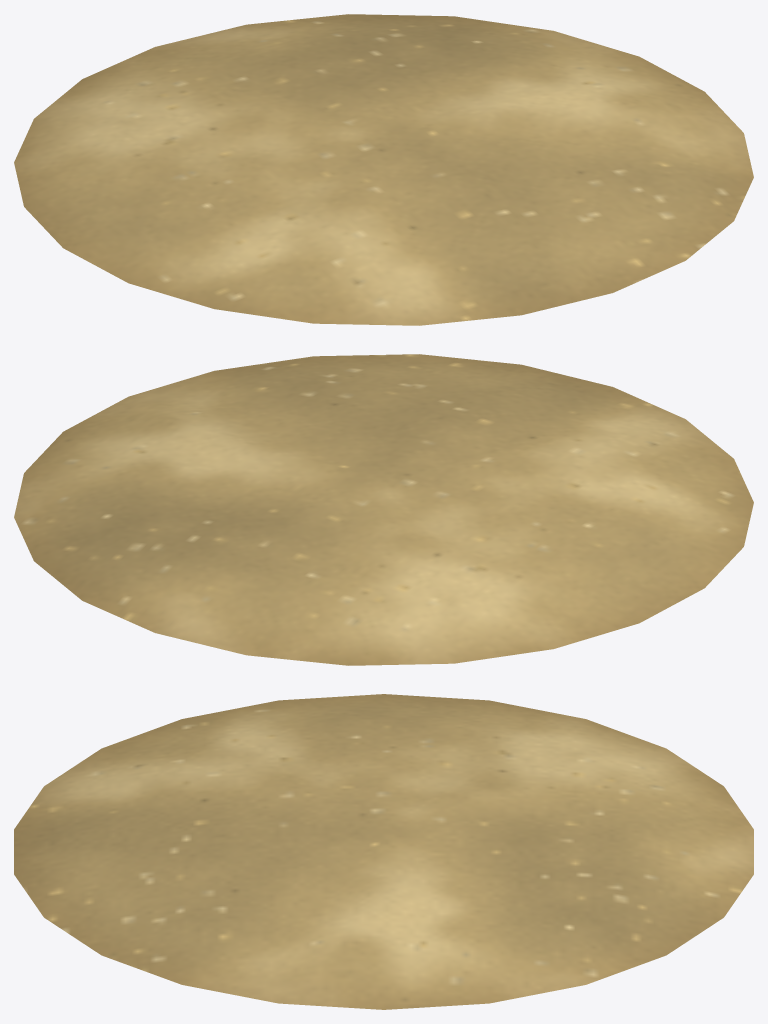
Rendered from pot_fill_porridge.glb.
The picture shows the model from 3 angles, top to bottom: view 1: azimuth 30°, elevation 25°; view 2: azimuth 150°, elevation 25°; view 3: azimuth 270°, elevation 25°; orthographic projection.
Parts seen in each view (by area): view 1: POT_FILL_PORRIDGE; view 2: POT_FILL_PORRIDGE; view 3: POT_FILL_PORRIDGE.
Part boxes in pixels (x1,y1,x2,y2): POT_FILL_PORRIDGE: (14,14,753,325); POT_FILL_PORRIDGE: (14,354,753,665); POT_FILL_PORRIDGE: (14,694,753,1009).
Bounding box in the file's own units: 0.277 × 0.0308 × 0.2742.
1 material, 1 textured.
